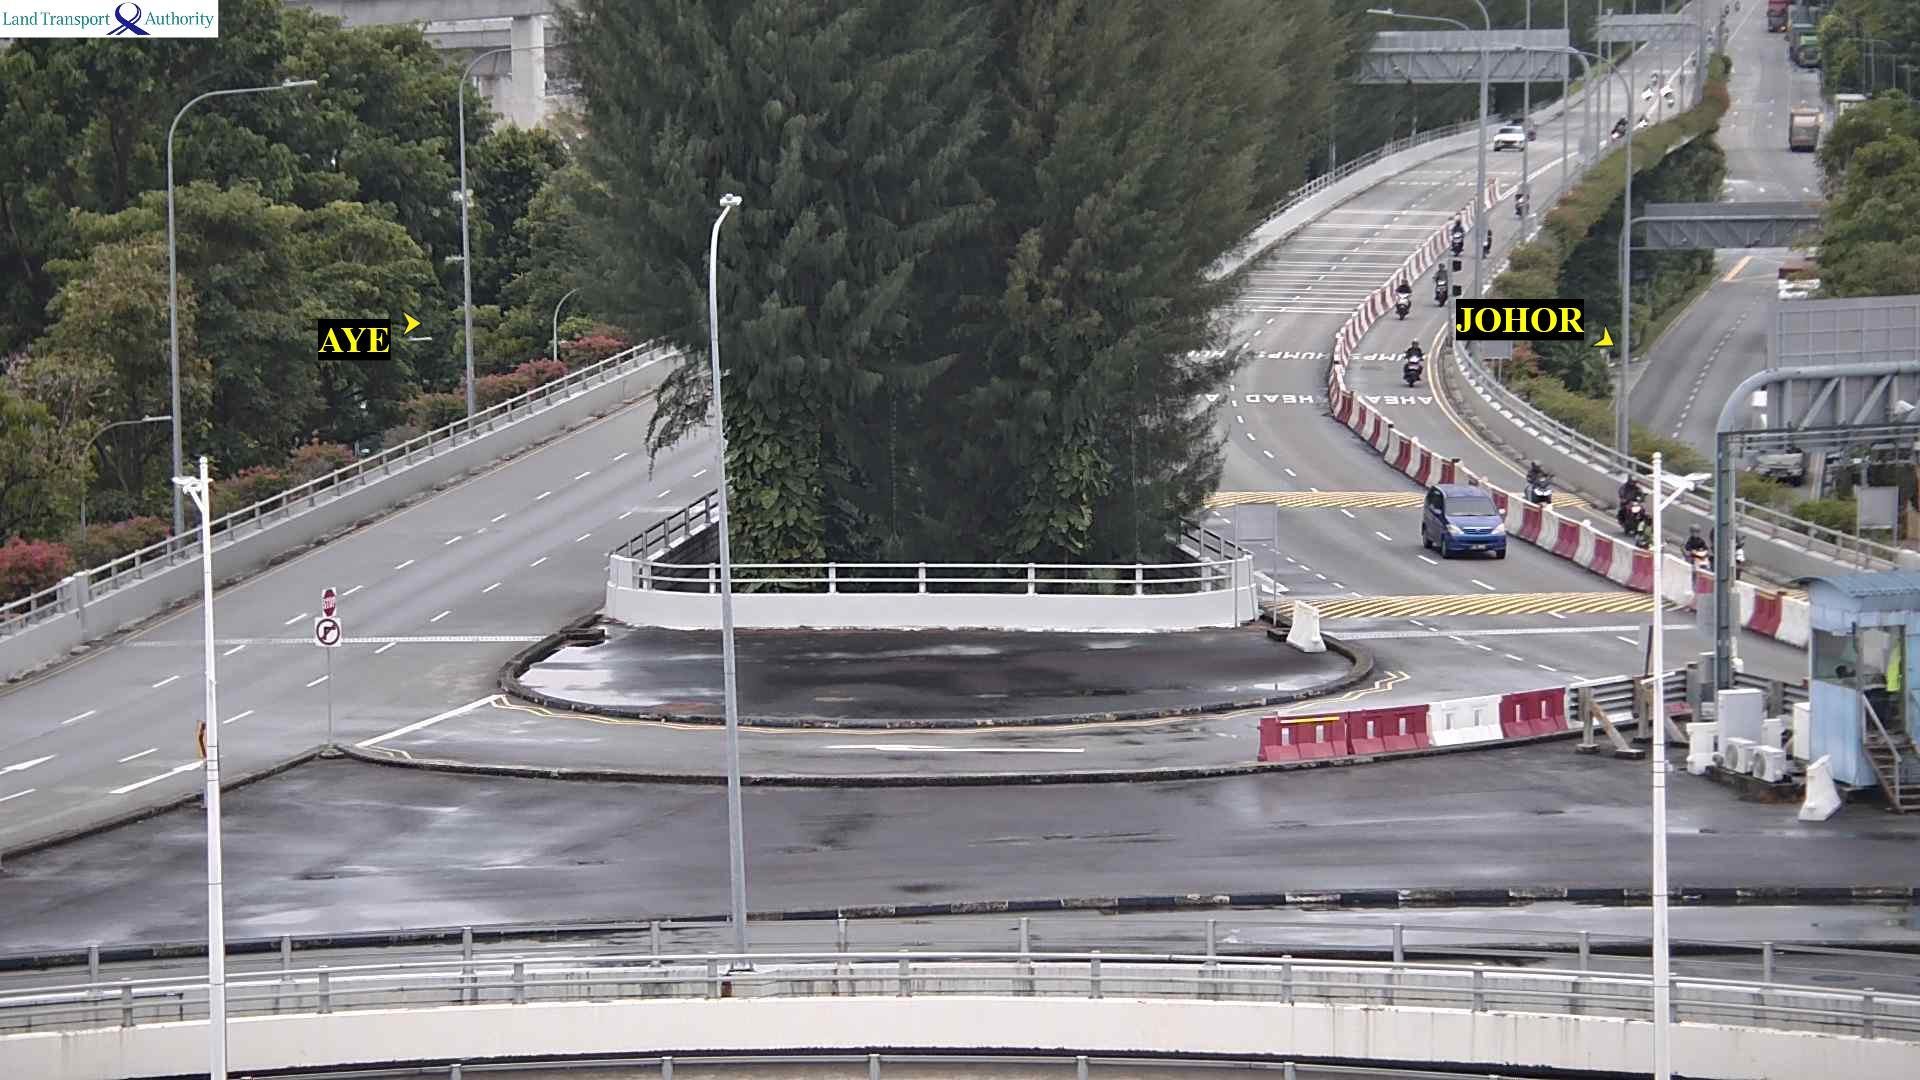vehicle-secondlink-johor: (1422, 484, 1507, 560), (1619, 476, 1646, 535), (1684, 525, 1709, 571), (1527, 460, 1553, 504), (1403, 339, 1424, 386), (1494, 127, 1524, 150), (1396, 278, 1412, 319), (1433, 264, 1448, 307), (1636, 514, 1654, 549), (1511, 119, 1536, 141), (1452, 219, 1465, 256), (1516, 182, 1530, 215), (1611, 115, 1627, 141), (1663, 84, 1676, 109), (1484, 224, 1491, 258), (1642, 86, 1652, 104), (1639, 113, 1650, 128), (1650, 73, 1659, 86), (1734, 0, 1739, 15), (1692, 51, 1696, 69), (1725, 4, 1730, 16)
